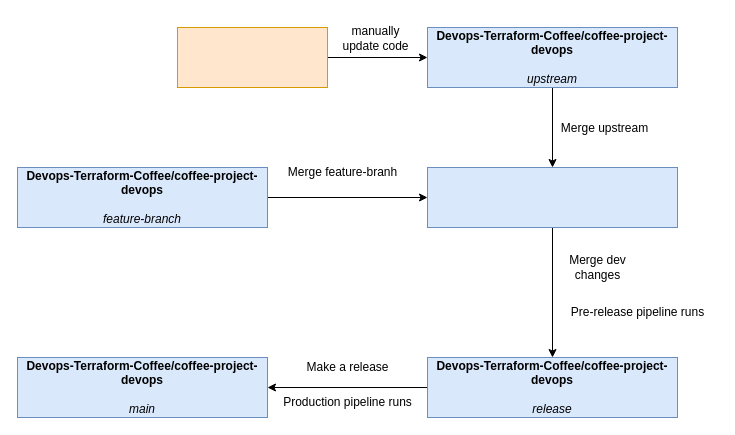
This 735x435 diagram has some shape labels left out. Here are the shapes that lost their labels. From the top down, the centre of each, then its label:
point (252, 57): CSC-519/coffee-project main
point (552, 197): Devops-Terraform-Coffee/coffee-project-devops dev
